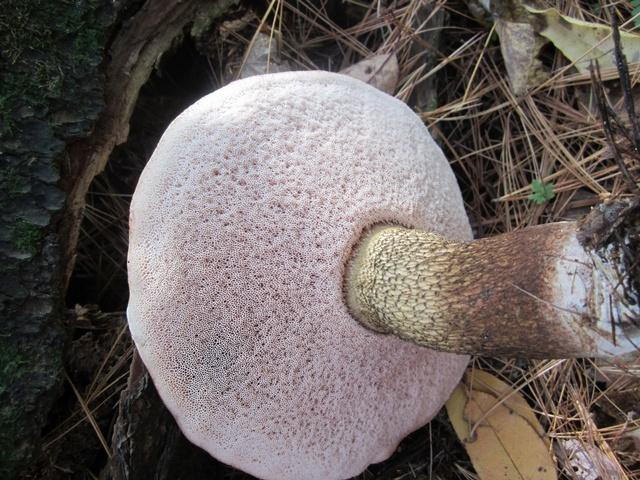Non-edible Mushroom: (124, 68, 476, 478)
